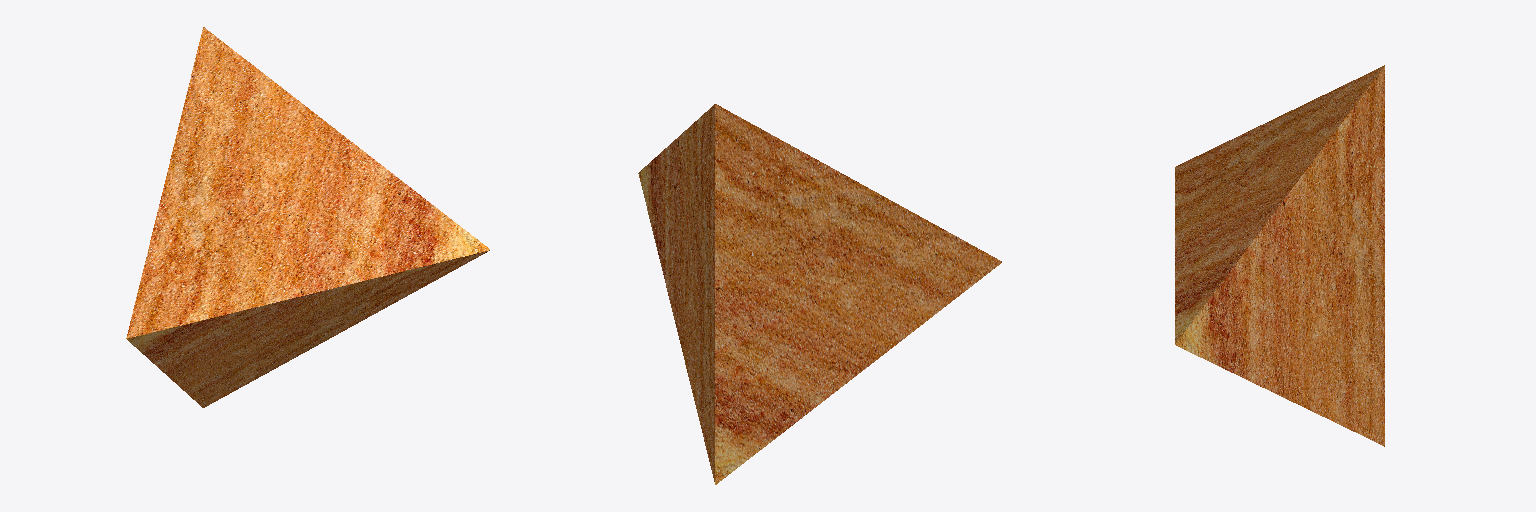
3 renders of one model, left to right at view 1: azimuth 30°, elevation 25°; view 2: azimuth 150°, elevation 25°; view 3: azimuth 270°, elevation 25°, orthographic.
Parts seen in each view (by area): view 1: Cube.006; view 2: Cube.006; view 3: Cube.006.
Boxes of the visible parts, x1,y1,x2,y2 form: Cube.006: [126, 27, 489, 407]; Cube.006: [638, 104, 1001, 484]; Cube.006: [1175, 65, 1384, 446].
Size of the model in its own units: 4 by 4 by 2.
Materials: 1 (1 with a texture image).